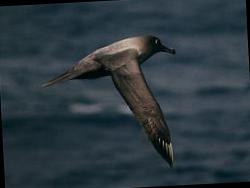bird: (30, 23, 190, 180)
